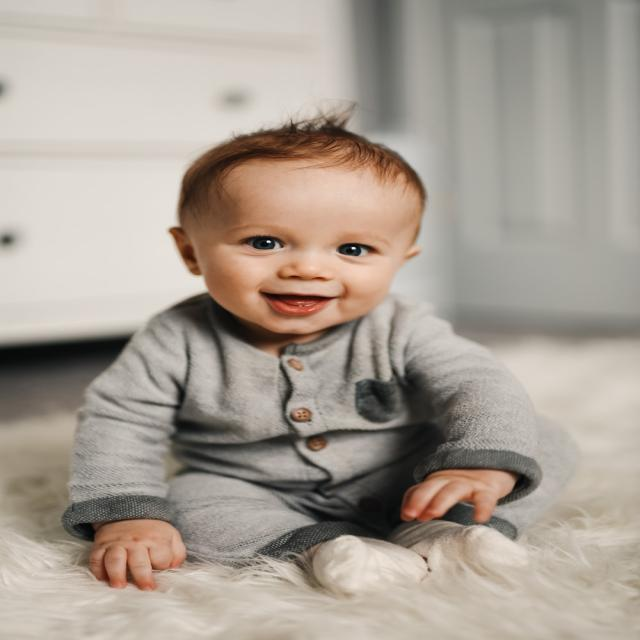non-dog: (61, 110, 578, 597)
